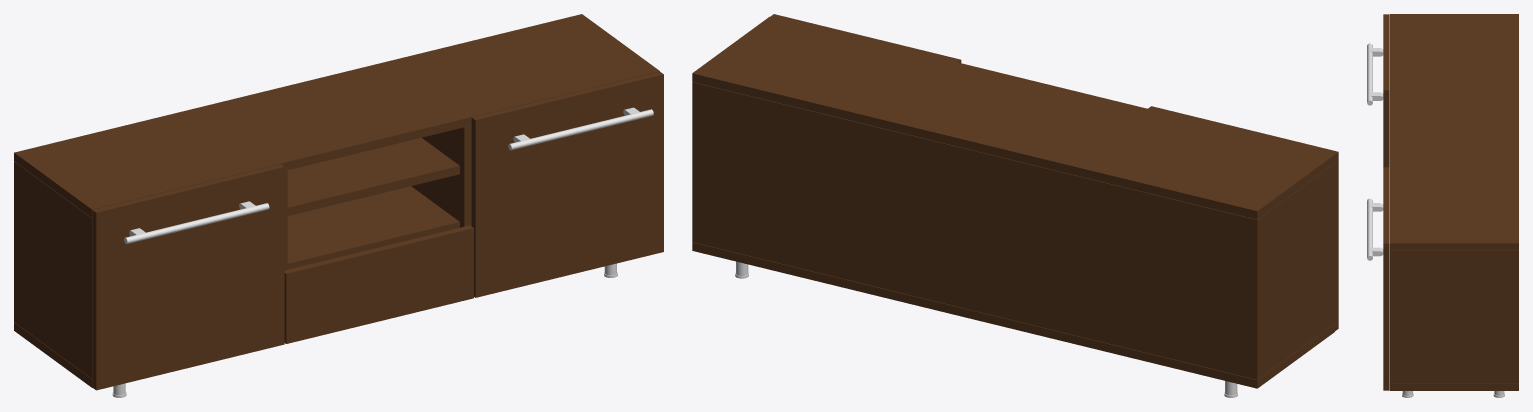
Rendered from comoda.fbx.
3 views of the same model, side by side, from view 1: azimuth 30°, elevation 25°; view 2: azimuth 150°, elevation 25°; view 3: azimuth 270°, elevation 25° (orthographic). The views are drawn at different scales.
Visible parts, largest first — view 1: Cube.001; view 2: Cube.001; view 3: Cube.001.
Boxes of the visible parts, x1=… form: Cube.001: x1=14, y1=14, x2=663, y2=397; Cube.001: x1=692, y1=14, x2=1338, y2=397; Cube.001: x1=1367, y1=14, x2=1518, y2=397.
Size of the model in its own units: 200 by 68.19 by 55.94.
